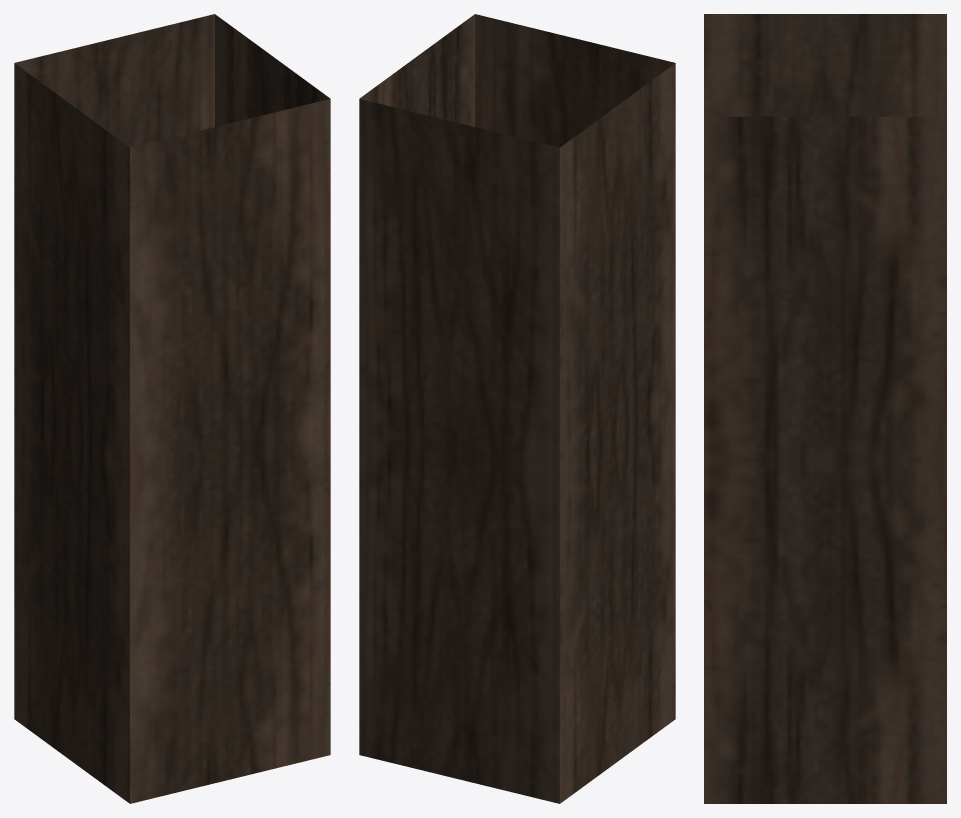
Rendered from Column A x1.fbx.
3 renders of one model, left to right at view 1: azimuth 30°, elevation 25°; view 2: azimuth 150°, elevation 25°; view 3: azimuth 270°, elevation 25°, orthographic. The views are drawn at different scales.
Visible parts, largest first — view 1: Column A x1; view 2: Column A x1; view 3: Column A x1.
Part boxes in pixels (x1,y1,x2,y2): Column A x1: (14,14,330,803); Column A x1: (359,14,675,803); Column A x1: (704,14,946,803).
Bounding box in the file's own units: 0.32 × 1 × 0.32.
